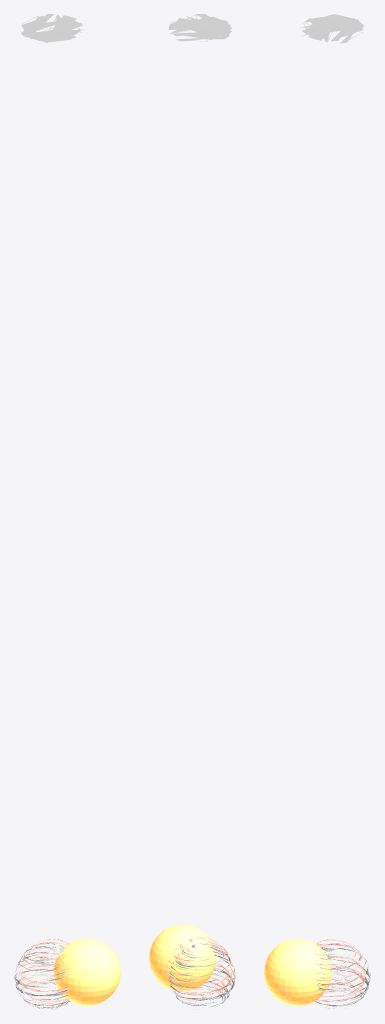
Rendered from orb-flare.glb.
The picture shows the model from 3 angles, left to right: view 1: azimuth 90°, elevation 25°; view 2: azimuth 210°, elevation 25°; view 3: azimuth 270°, elevation 25°; orthographic projection.
Visible parts, largest first — view 1: orb-flare; view 2: orb-flare; view 3: orb-flare.
Part boxes in pixels (box(x1,y1,x2,y2)): orb-flare: box(14, 14, 120, 1009); orb-flare: box(149, 14, 235, 1006); orb-flare: box(264, 14, 370, 1008).
Size of the model in its own units: 0.0101 by 0.1631 by 0.0161.
